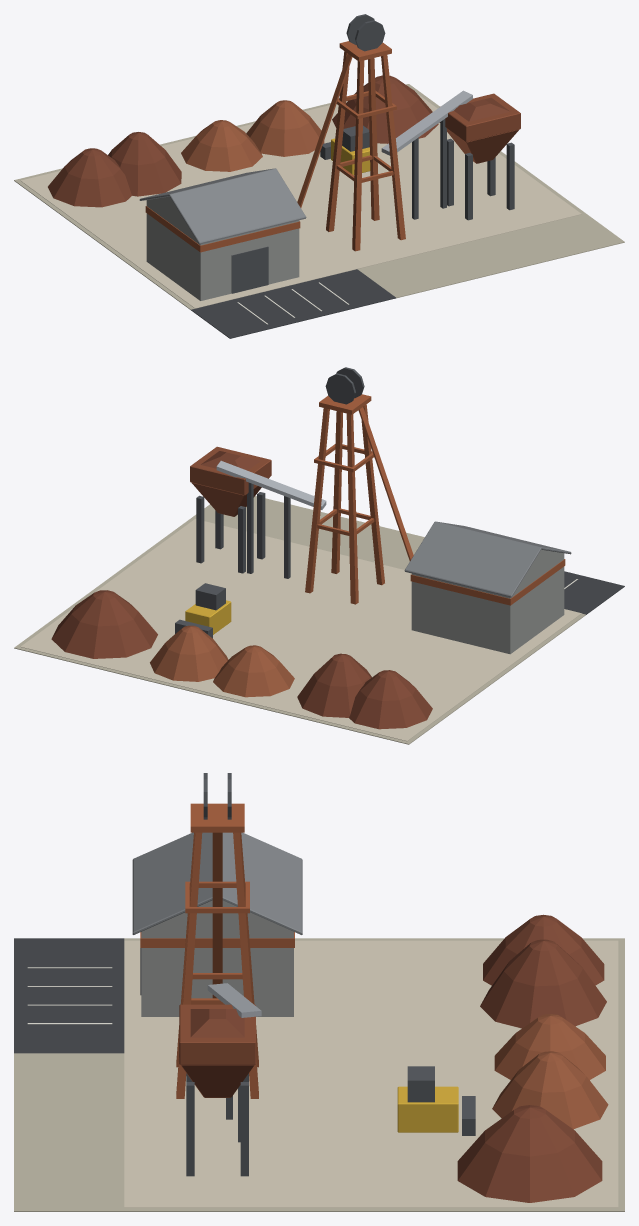
The model's file is ironmine.glb.
3 views of the same model, one above another, from view 1: azimuth 30°, elevation 25°; view 2: azimuth 150°, elevation 25°; view 3: azimuth 270°, elevation 25° (orthographic). The views are drawn at different scales.
Parts seen in each view (by area): view 1: ironmine; view 2: ironmine; view 3: ironmine.
Boxes of the visible parts, bbox=[...] form: ironmine: bbox=[14, 14, 624, 338]; ironmine: bbox=[14, 367, 624, 744]; ironmine: bbox=[14, 773, 624, 1211].
Size of the model in its own units: 38 by 19.93 by 36.
